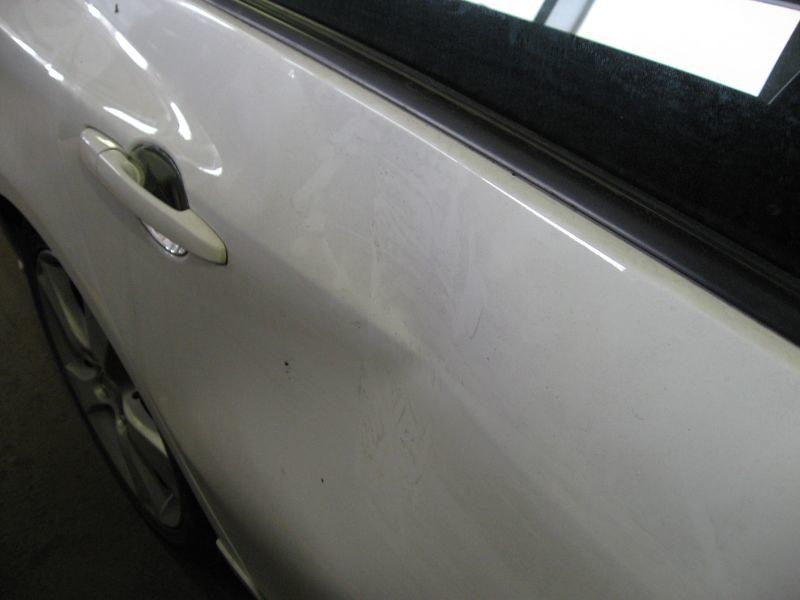doorouter-dent: (14, 32, 488, 557)
